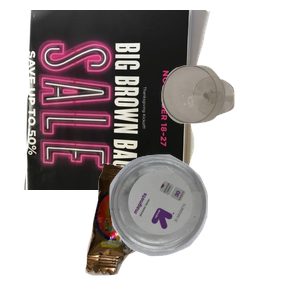glass: (159, 63, 300, 179)
paper: (22, 10, 225, 190)
plastic: (107, 152, 300, 300)
trash: (83, 160, 233, 300)
